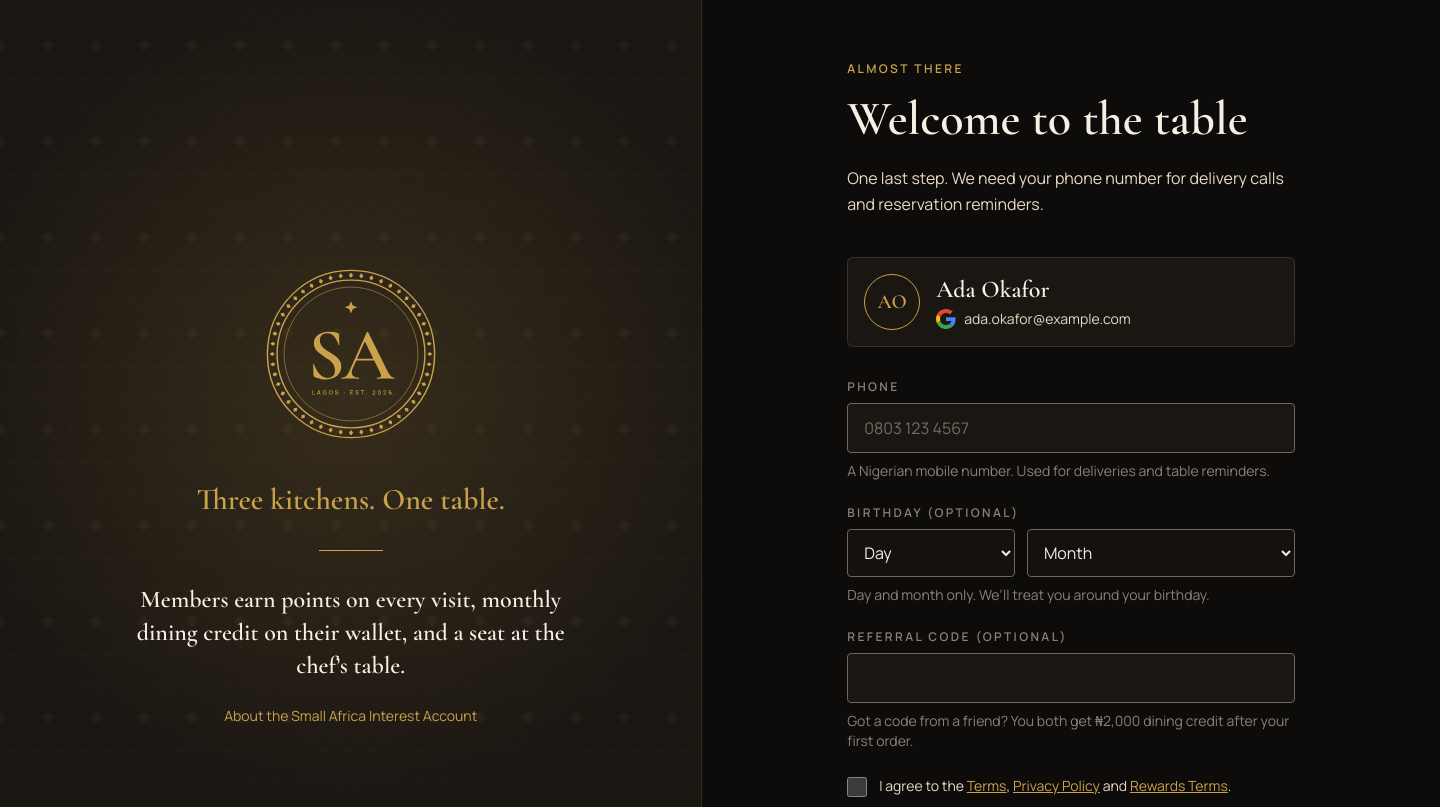
/welcome › shows what the server says is wrong with a field
This screenshot has width=1440, height=807.
Step 1. Type "08031234567" into the field labelled "Phone" → x=1071, y=428, box [847,403,1295,453]
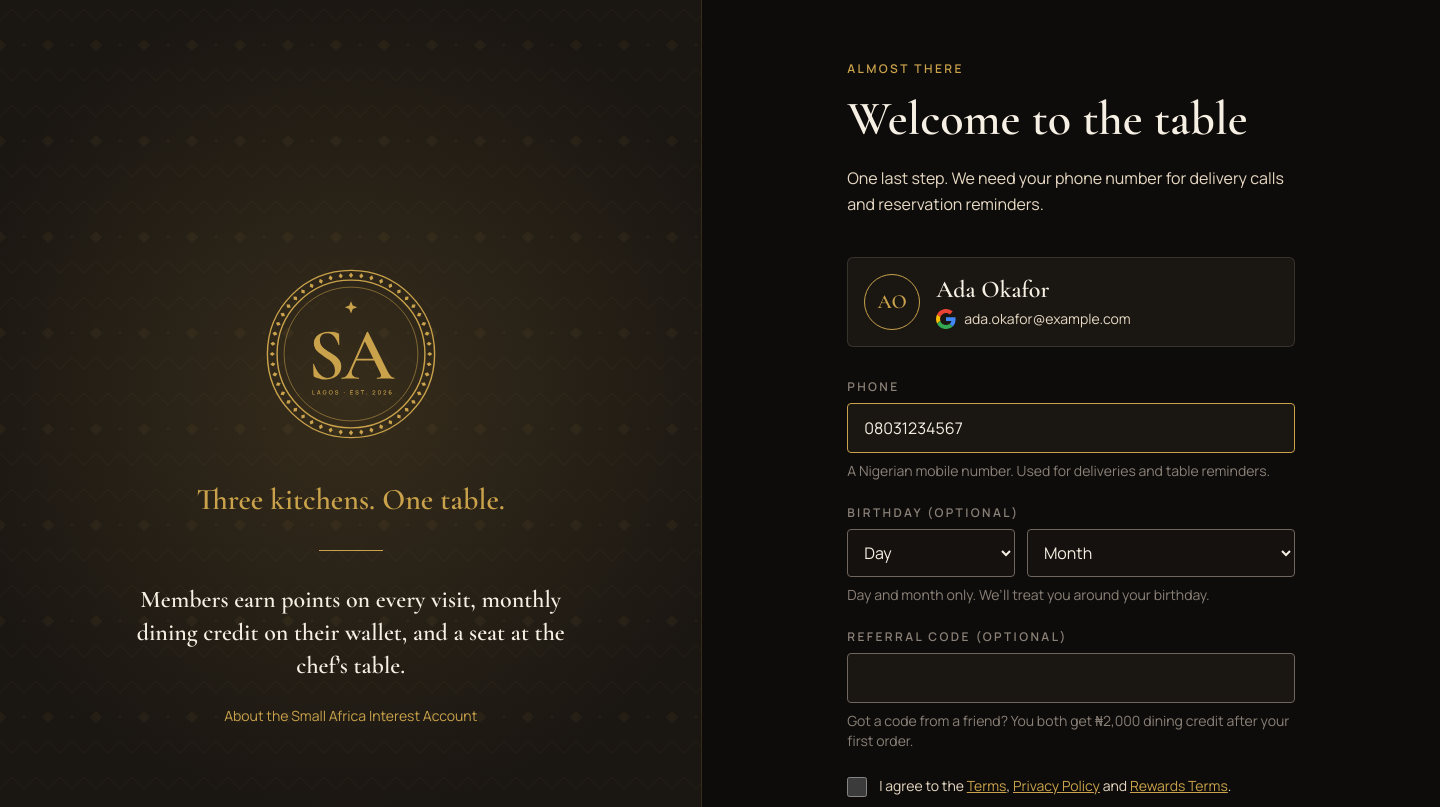
Step 2. Type "nope" into the field labelled "Referral code (optional)" → x=1071, y=678, box [847,653,1295,703]
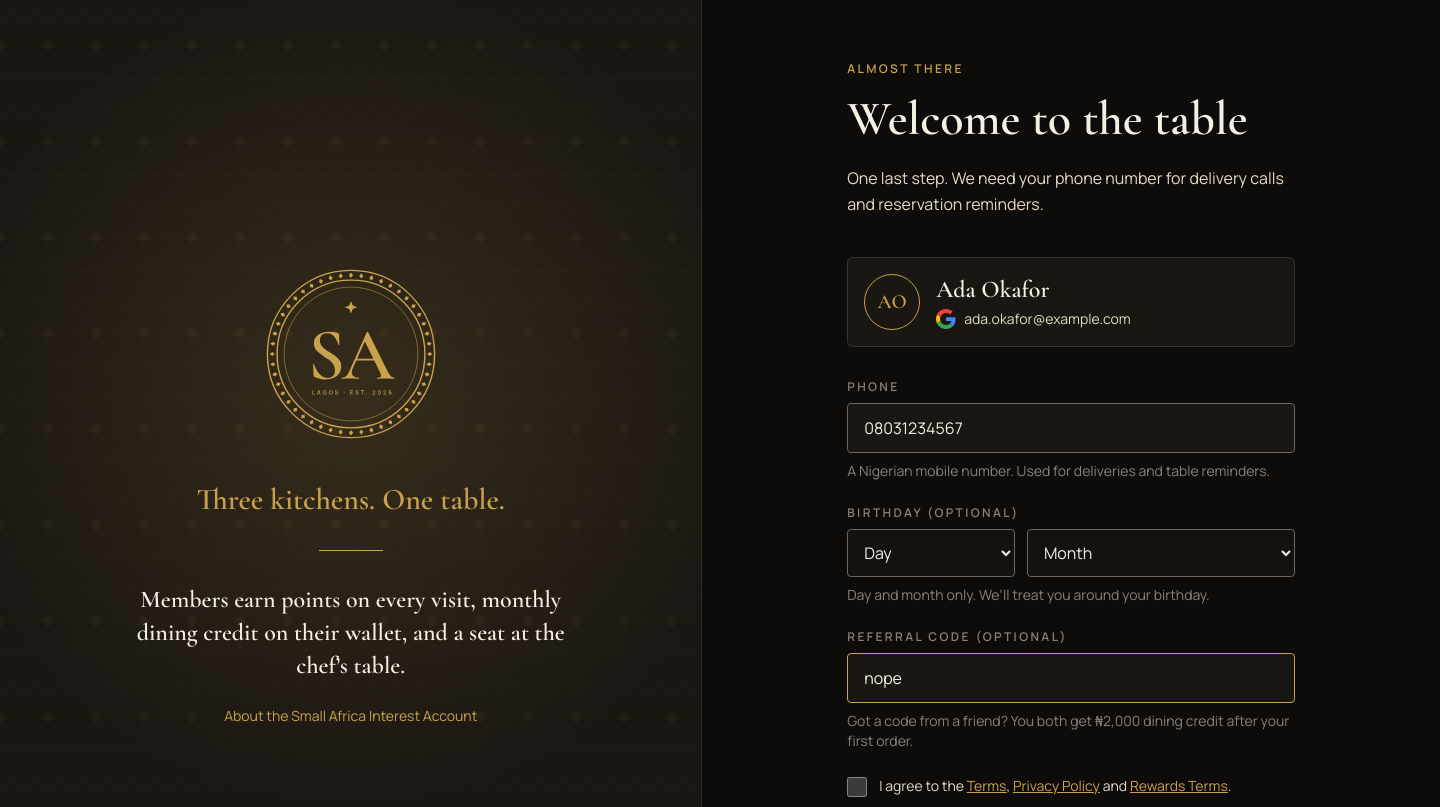
Step 3. Click the checkbox → x=857, y=787, box [847,777,867,797]
(page scrolled)
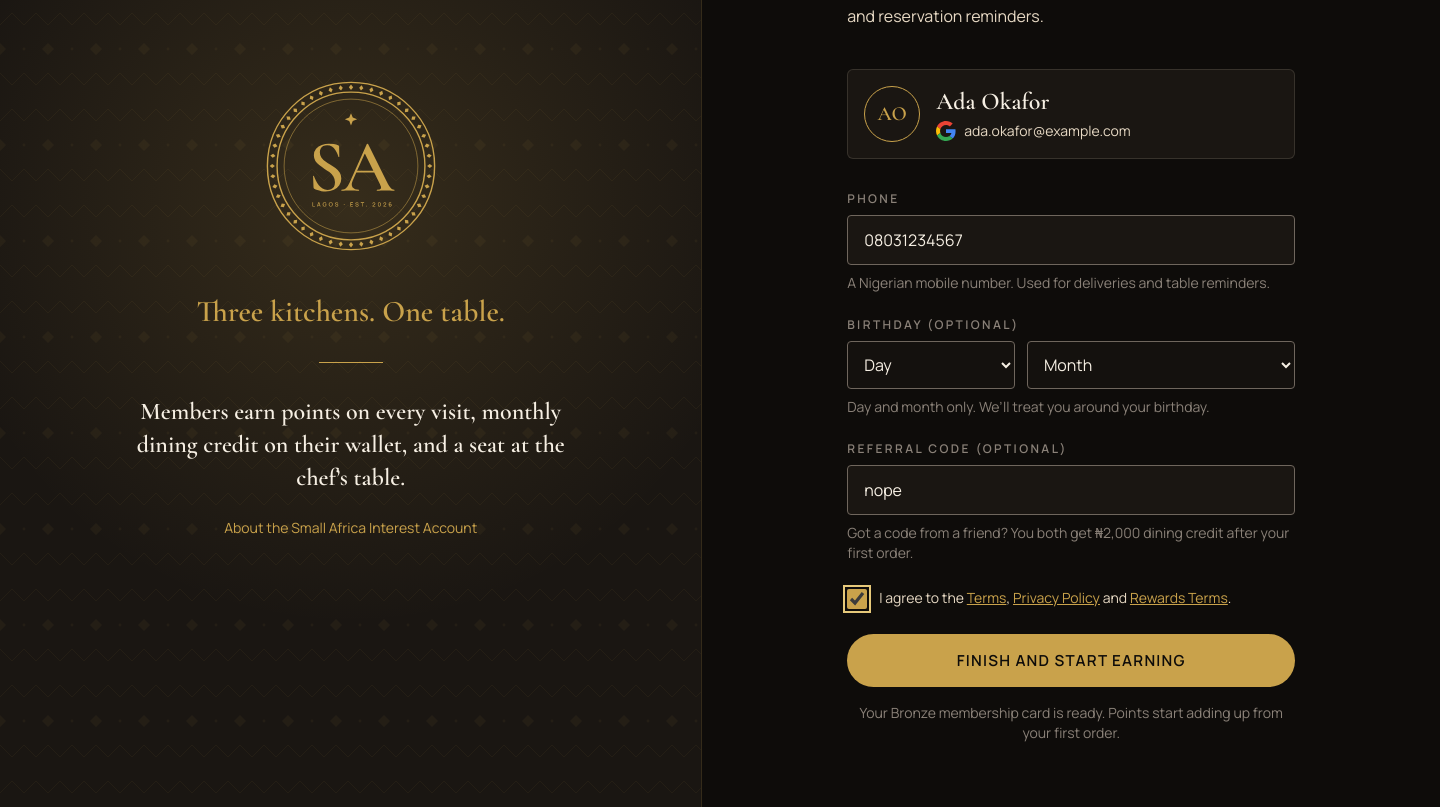
Step 4. Click the button "Finish and start earning" → x=1071, y=661, box [847,634,1295,688]
(page scrolled)
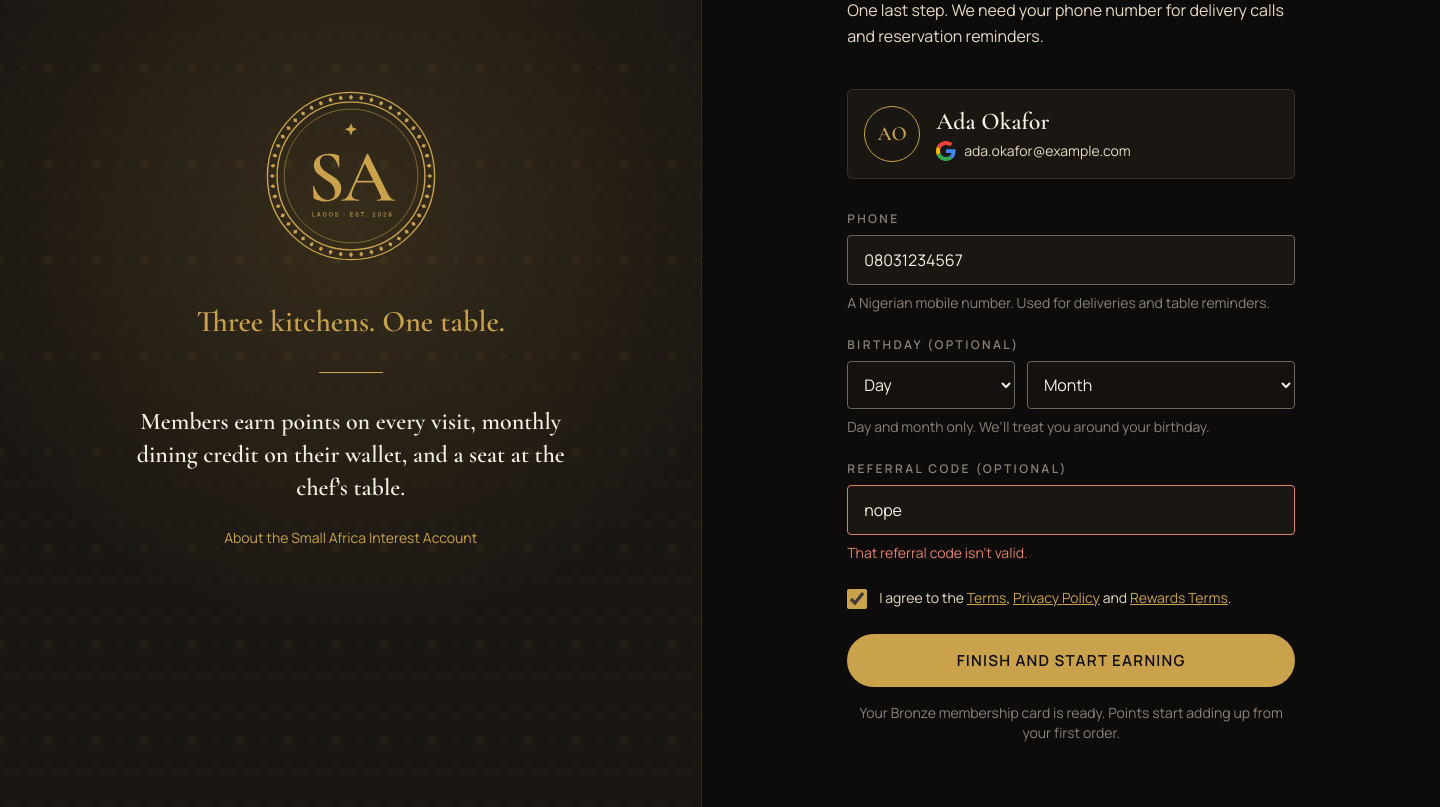
Now the text "That referral code isn’t valid." is shown, box [847,543,1028,562]
